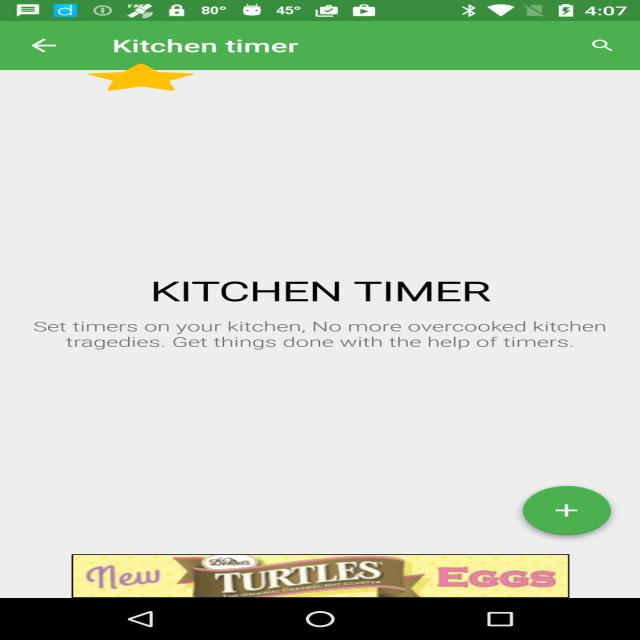forced continuity: (88, 64, 194, 90)
